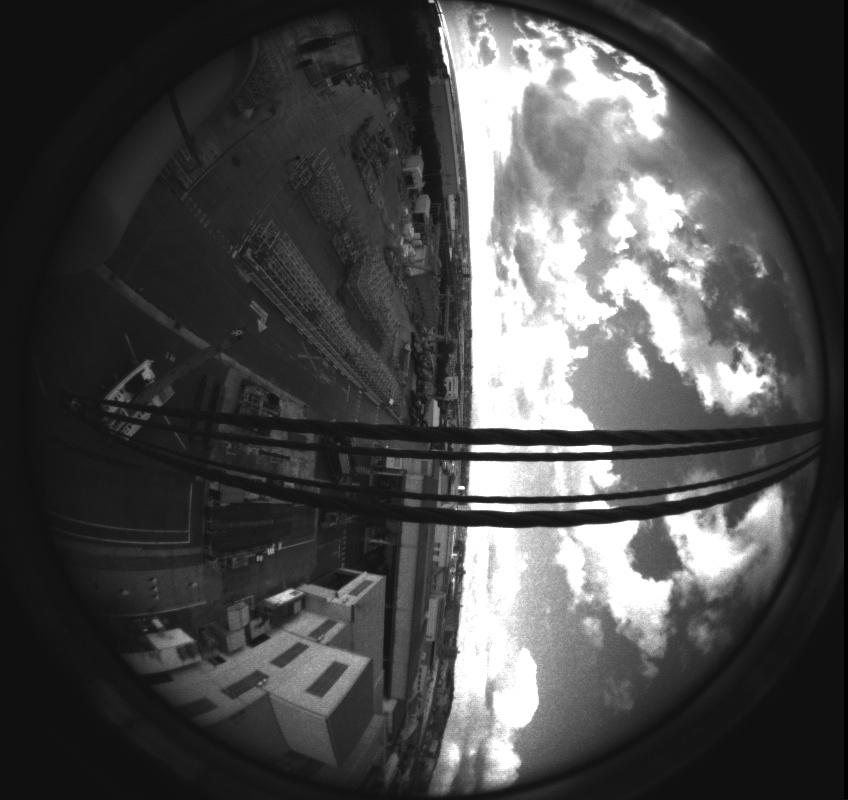rope: (8, 379, 846, 541)
